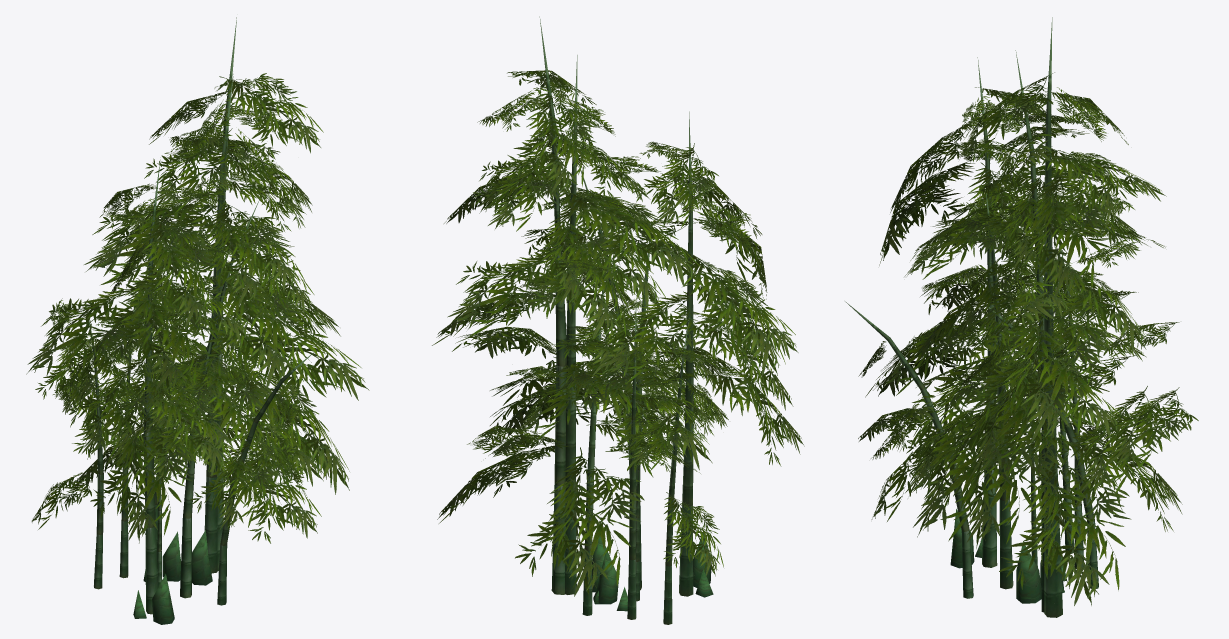
The picture shows the model from 3 angles, left to right: view 1: azimuth 30°, elevation 25°; view 2: azimuth 150°, elevation 25°; view 3: azimuth 270°, elevation 25°; orthographic projection. The views are drawn at different scales.
Visible parts, largest first — view 1: ZL1_22; view 2: ZL1_22; view 3: ZL1_22.
Boxes of the visible parts, box(x1,y1,x2,y2) form: ZL1_22: box(26, 17, 369, 624); ZL1_22: box(432, 16, 804, 624); ZL1_22: box(845, 17, 1198, 617).
Bounding box in the file's own units: 558 × 842 × 464.
1 material, 1 textured.
